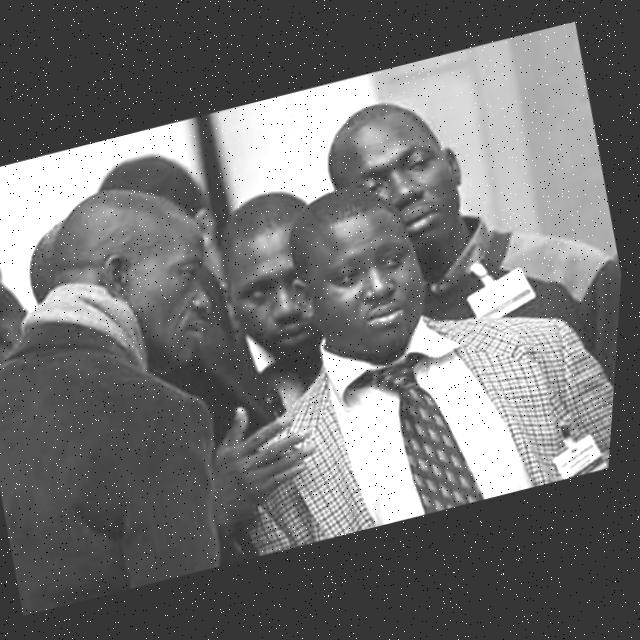face: (66, 172, 233, 403), (319, 84, 480, 266), (292, 193, 437, 379), (219, 196, 331, 373)
